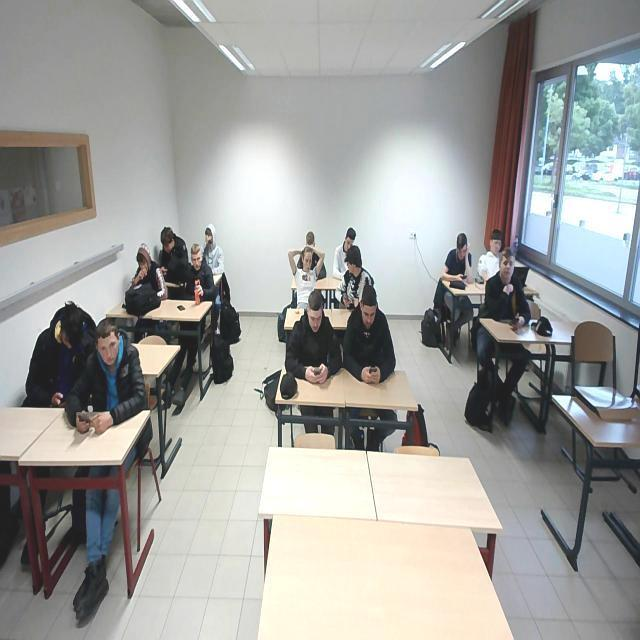Looking away: (297, 244, 316, 272), (136, 241, 151, 274), (492, 234, 508, 262)
Looking forward: (188, 248, 210, 272)
Phone use: (78, 322, 150, 438), (27, 293, 92, 407), (290, 291, 342, 388), (346, 293, 399, 386), (490, 254, 531, 328), (436, 220, 478, 290), (152, 218, 185, 281)
Turning around: (338, 248, 375, 302)
